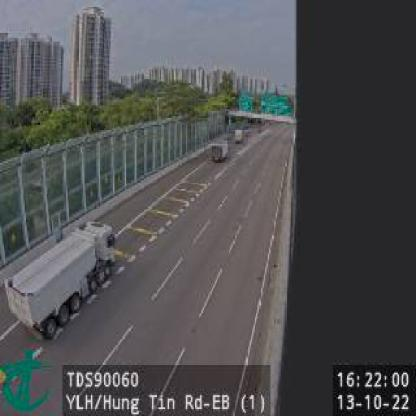Truck: (8, 226, 117, 345), (210, 136, 230, 164)
